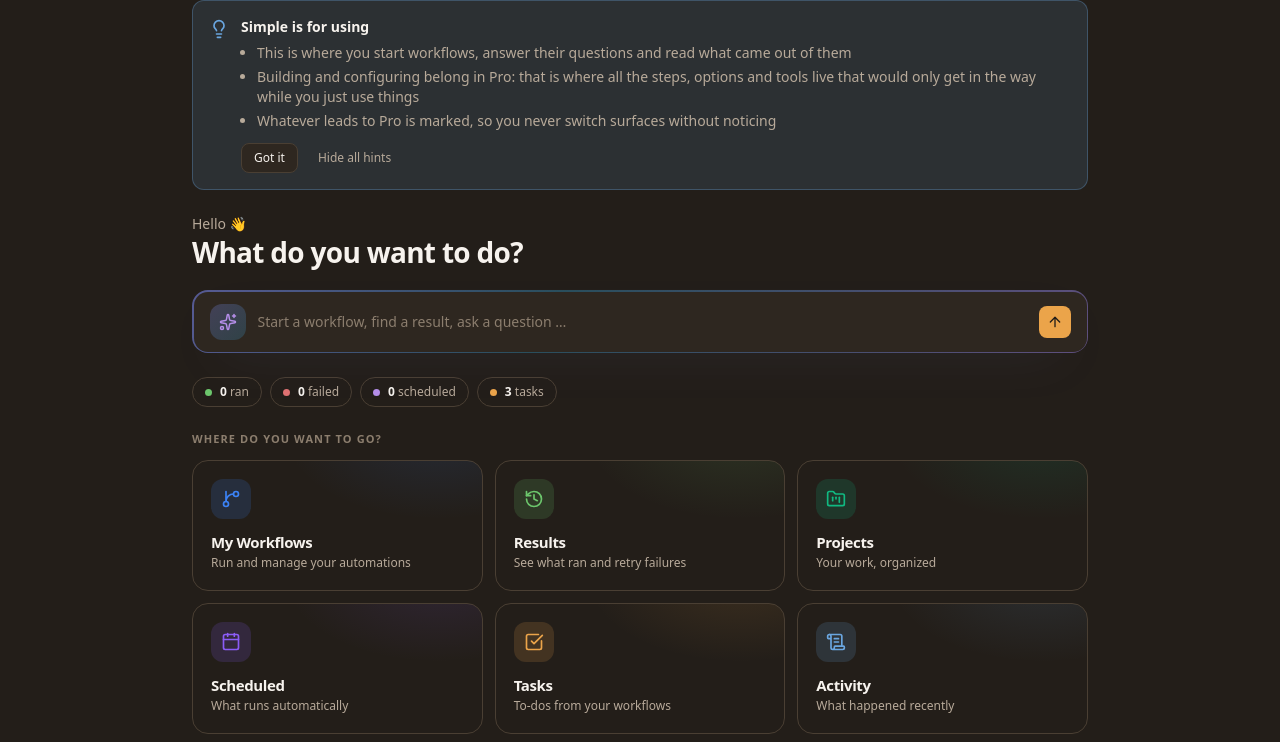
Test: SimpleHome — the assistant answers in place › sends a chosen option as the next message of the same conversation
Expected: the button named "Assistant" is shown, [1038,306,1070,338]
Type "did it run" into the dropdown named "Start, find or ask" at (642, 322), box [258,312,1026,332]
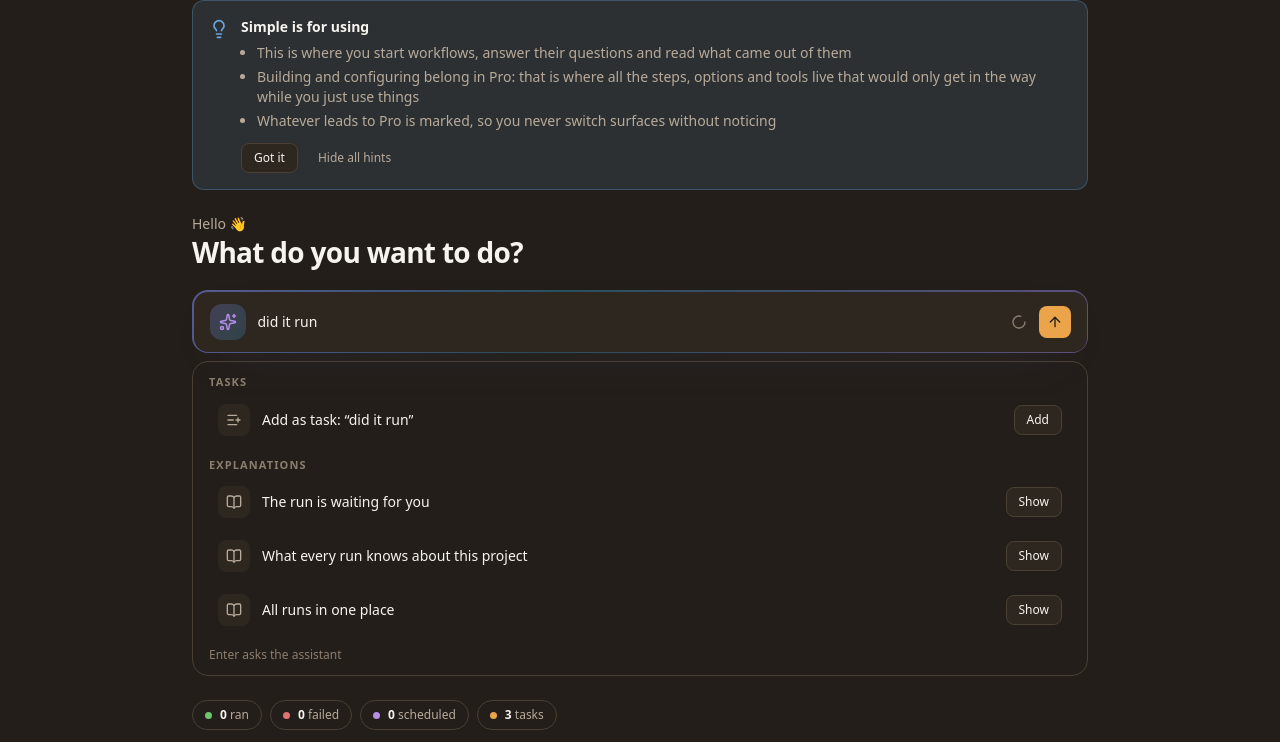
Press Enter in the dropdown named "Start, find or ask", box [258,312,998,332]
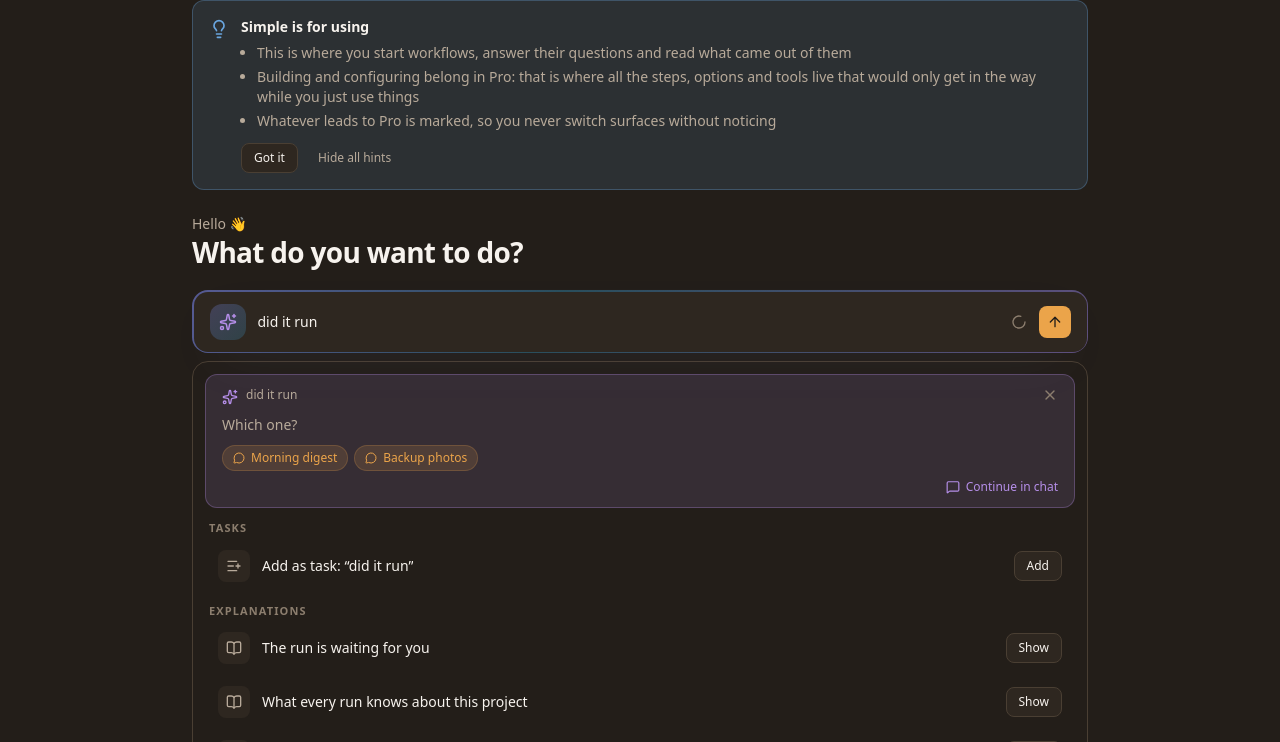
Click the button "Backup photos" at (416, 458), box [354,445,478,471]
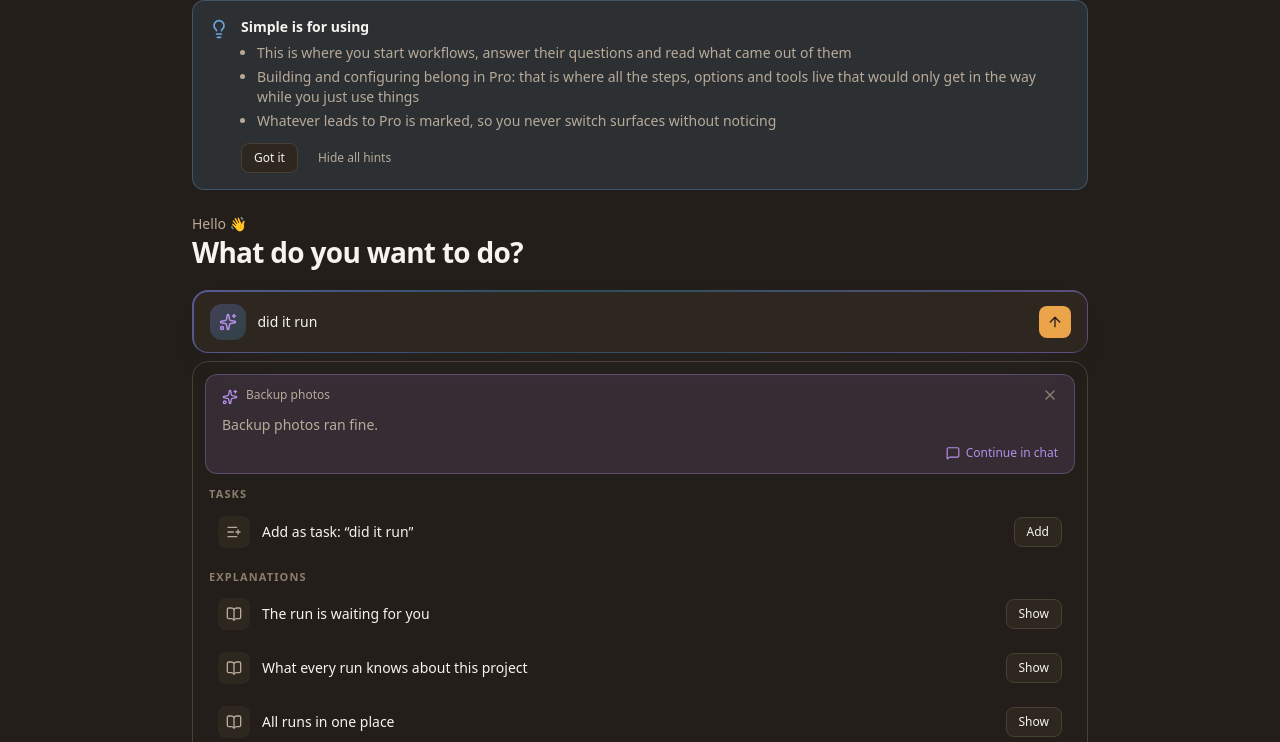
Result: the text "Backup photos ran fine." is shown at [222,415,378,434]
